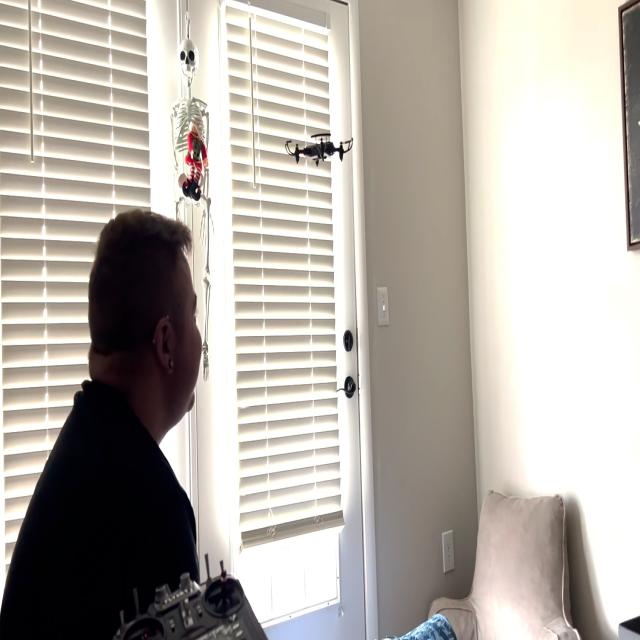drone: (280, 115, 358, 175)
